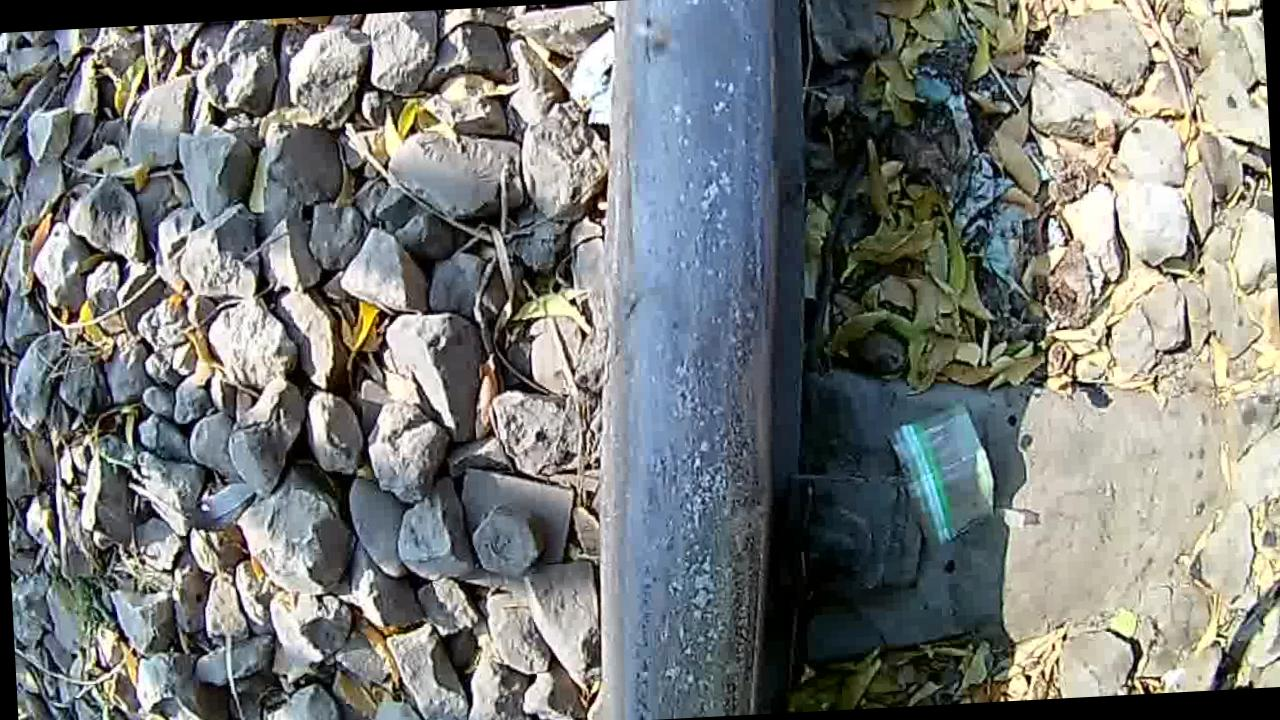bolt_missing: (594, 0, 808, 720)
